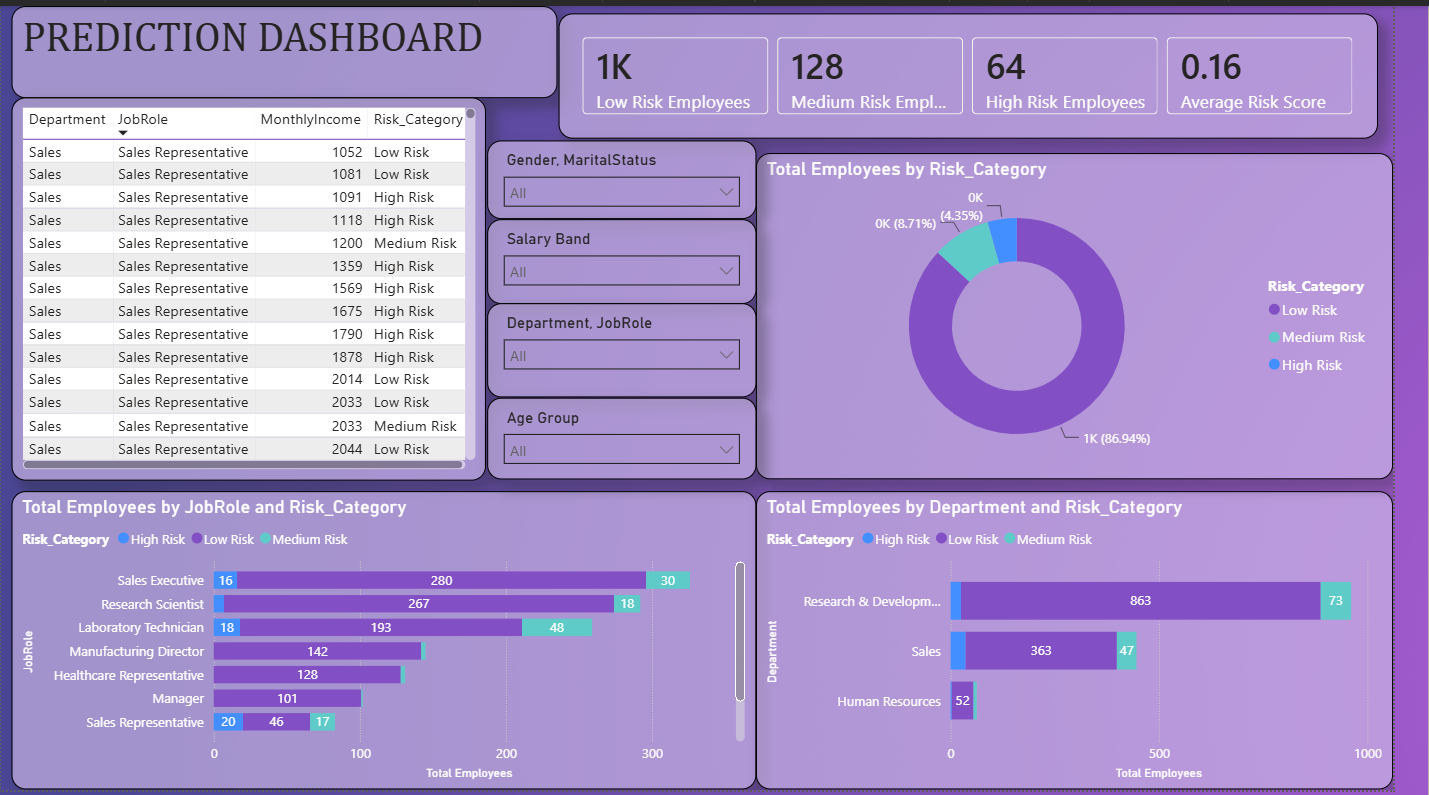

This screenshot's page, from the dashboard's own definition file:
{"tool":"powerbi","page":{"name":"Page 4","canvas":[1280,720],"ordinal":1},"visuals":[{"type":"textbox","box":[10,0,502.2,84.4],"z":0},{"type":"tableEx","fields":{"Values":["Employee_Attrition_Predictions.Department","Employee_Attrition_Predictions.JobRole","Employee_Attrition_Predictions.MonthlyIncome","Employee_Attrition_Predictions.Risk_Category"]},"box":[10,84.4,436.7,352.2],"z":1000},{"type":"barChart","fields":{"Category":["Employee_Attrition_Predictions.JobRole"],"Series":["Employee_Attrition_Predictions.Risk_Category"],"Y":["Employee_Attrition_Predictions.Total Employees"]},"box":[10,445.6,684.4,274.4],"z":2000},{"type":"barChart","fields":{"Category":["Employee_Attrition_Predictions.Department"],"Y":["Employee_Attrition_Predictions.Total Employees"],"Series":["Employee_Attrition_Predictions.Risk_Category"]},"box":[694.4,445.6,585.6,274.4],"z":3000},{"type":"donutChart","fields":{"Category":["Employee_Attrition_Predictions.Risk_Category"],"Y":["Employee_Attrition_Predictions.Total Employees"]},"box":[694.4,135.6,585.6,300],"z":4000},{"type":"cardVisual","fields":{"Data":["Employee_Attrition_Predictions.Low Risk Employees","Employee_Attrition_Predictions.Medium Risk Employees","Employee_Attrition_Predictions.High Risk Employees","Employee_Attrition_Predictions.Average Risk Score"]},"box":[512.2,6.7,753.3,115.6],"z":5000},{"type":"slicer","fields":{"Values":["Employee_Attrition_Predictions.Gender","Employee_Attrition_Predictions.MaritalStatus"]},"box":[446.7,123.3,247.8,72.2],"z":6000},{"type":"slicer","fields":{"Values":["Employee_Attrition_Predictions.Salary Band"]},"box":[446.7,195.6,247.8,77.8],"z":7000},{"type":"slicer","fields":{"Values":["Employee_Attrition_Predictions.Department","Employee_Attrition_Predictions.JobRole"]},"box":[446.7,273.3,247.8,86.7],"z":8000},{"type":"slicer","fields":{"Values":["Employee_Attrition_Predictions.Age Group"]},"box":[446.7,360,247.8,75.6],"z":9000}]}

Visuals, with their boxes in screenshot pixels (x1, y1, x2, y2), scaled from the page's 1280x720 canvas onto the 1429x795 screenshot:
textbox: bbox(11, 0, 572, 93)
tableEx - Employee_Attrition_Predictions.Department x Employee_Attrition_Predictions.JobRole: bbox(11, 93, 499, 482)
barChart - Employee_Attrition_Predictions.JobRole x Employee_Attrition_Predictions.Risk_Category: bbox(11, 492, 775, 794)
barChart - Employee_Attrition_Predictions.Department x Employee_Attrition_Predictions.Total Employees: bbox(775, 492, 1428, 794)
donutChart - Employee_Attrition_Predictions.Risk_Category x Employee_Attrition_Predictions.Total Employees: bbox(775, 150, 1428, 481)
cardVisual - Employee_Attrition_Predictions.Low Risk Employees x Employee_Attrition_Predictions.Medium Risk Employees: bbox(572, 7, 1413, 135)
slicer - Employee_Attrition_Predictions.Gender x Employee_Attrition_Predictions.MaritalStatus: bbox(499, 136, 775, 216)
slicer - Employee_Attrition_Predictions.Salary Band: bbox(499, 216, 775, 302)
slicer - Employee_Attrition_Predictions.Department x Employee_Attrition_Predictions.JobRole: bbox(499, 302, 775, 398)
slicer - Employee_Attrition_Predictions.Age Group: bbox(499, 398, 775, 481)
